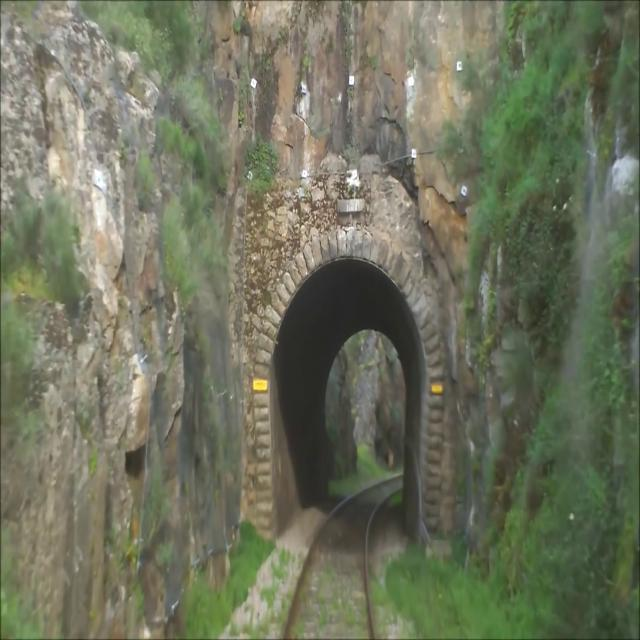rail-track: (286, 479, 403, 639)
